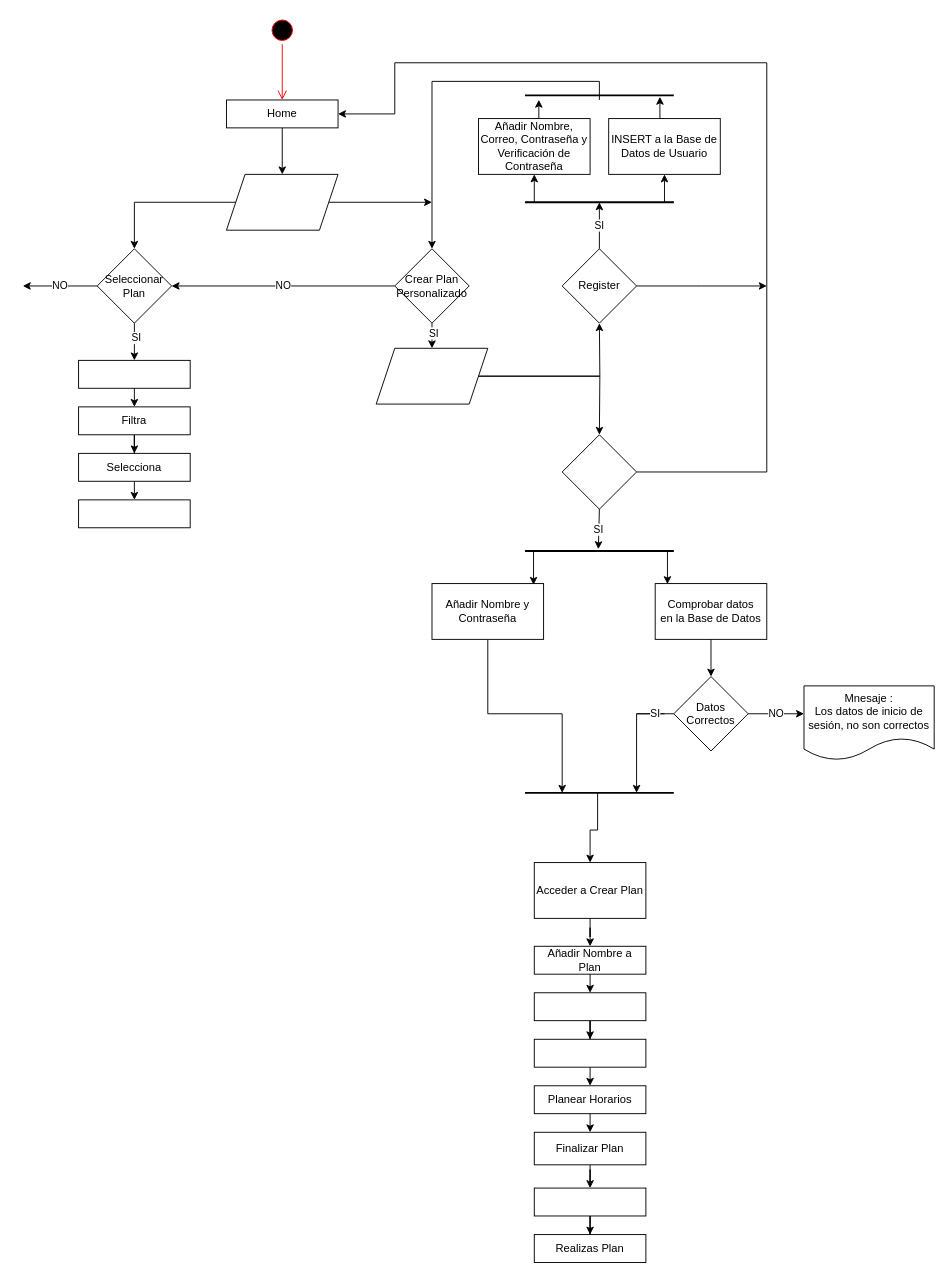
Image size: 950x1279. Some labels were removed from this diagram. Here are the shapes that lost their labels. From the top down, the centre of each, then its label:
the point at 282,201: Busca Plan
the point at 134,373: Busca
the point at 431,375: Iniciar Sesion / Register
the point at 599,471: Iniciar Sesion
the point at 134,513: Ejecuta Plan
the point at 589,1006: Seleccionar Transporte
the point at 589,1052: Seleccionar Acciones
the point at 589,1201: Guardar Plan
